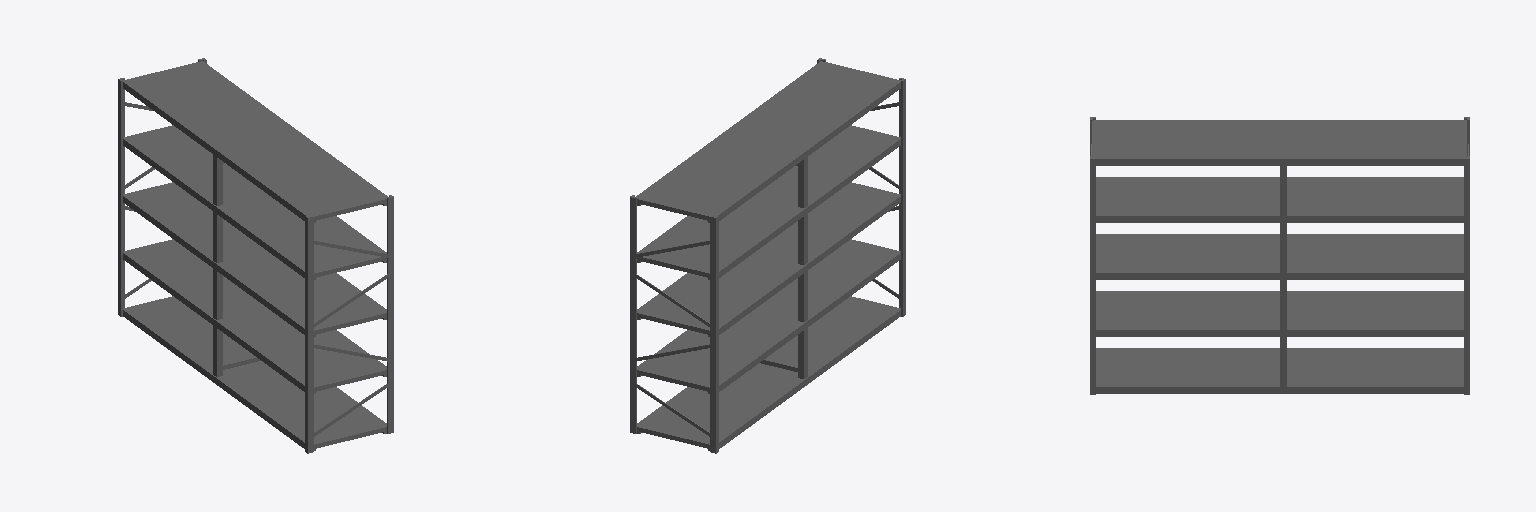
File: Rack.obj
3 views of the same model, side by side, from view 1: azimuth 30°, elevation 25°; view 2: azimuth 150°, elevation 25°; view 3: azimuth 270°, elevation 25° (orthographic).
Parts seen in each view (by area): view 1: Bottom_Shelf; view 2: Bottom_Shelf; view 3: Bottom_Shelf.
Boxes of the visible parts, box(x1,y1,x2,y2) form: Bottom_Shelf: box(118, 58, 393, 453); Bottom_Shelf: box(630, 58, 905, 453); Bottom_Shelf: box(1090, 117, 1469, 394).
Size of the model in its own units: 53.19 by 139 by 202.